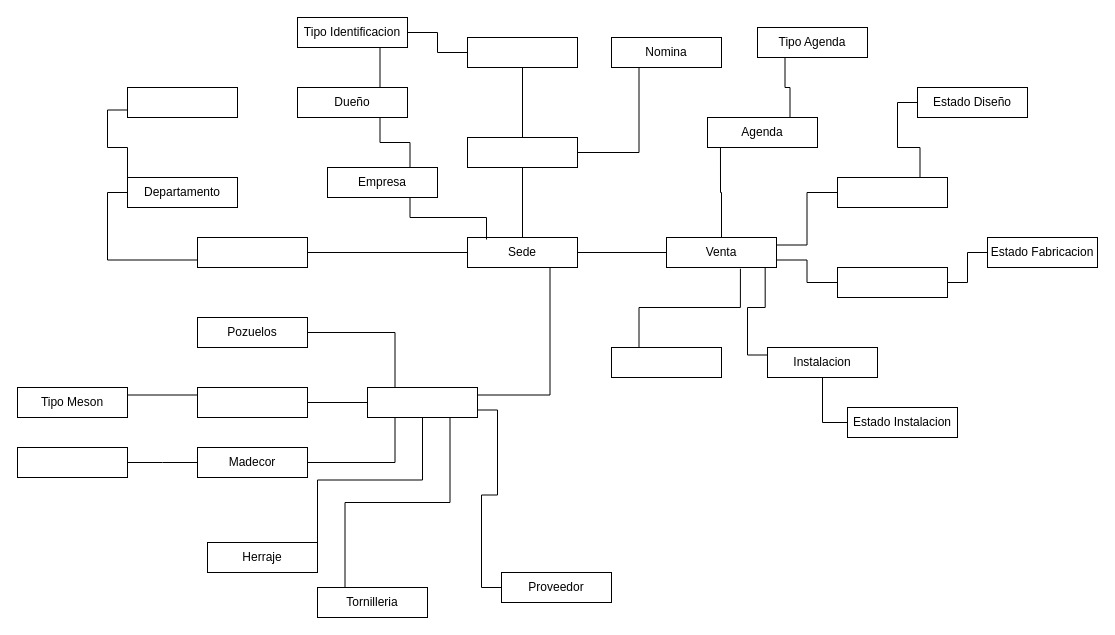
Some shapes in this 1115 by 635 pixel diagram are drawn without their labels. The shapes that lost their labels are listed below. From the top down, each one's centre as x and y in pixels, then its label:
At pixel 522 52: "Tipo Empleado".
At pixel 182 102: "Pais".
At pixel 522 152: "Empleado".
At pixel 892 192: "Diseño".
At pixel 252 252: "Ciudad".
At pixel 892 282: "Fabricacion".
At pixel 666 362: "Estado Venta".
At pixel 252 402: "Meson".
At pixel 422 402: "Inventario".
At pixel 72 462: "Tipo Madecor".
